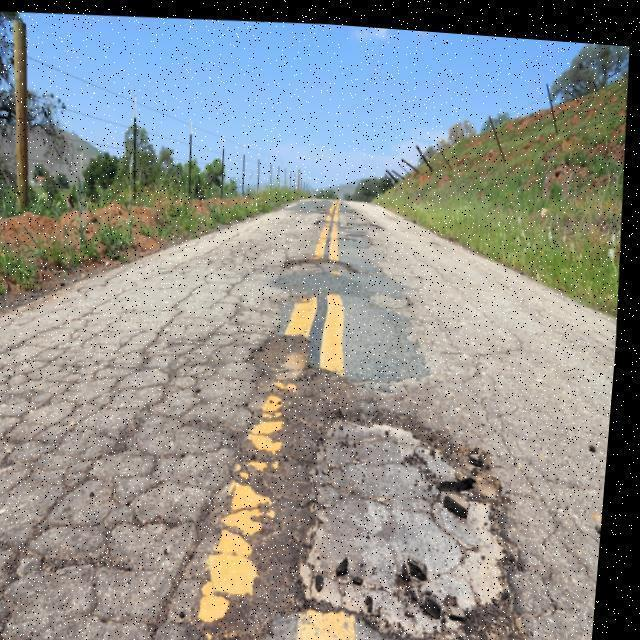Pothole: (289, 390, 533, 639), (252, 327, 317, 387), (275, 255, 358, 285)
